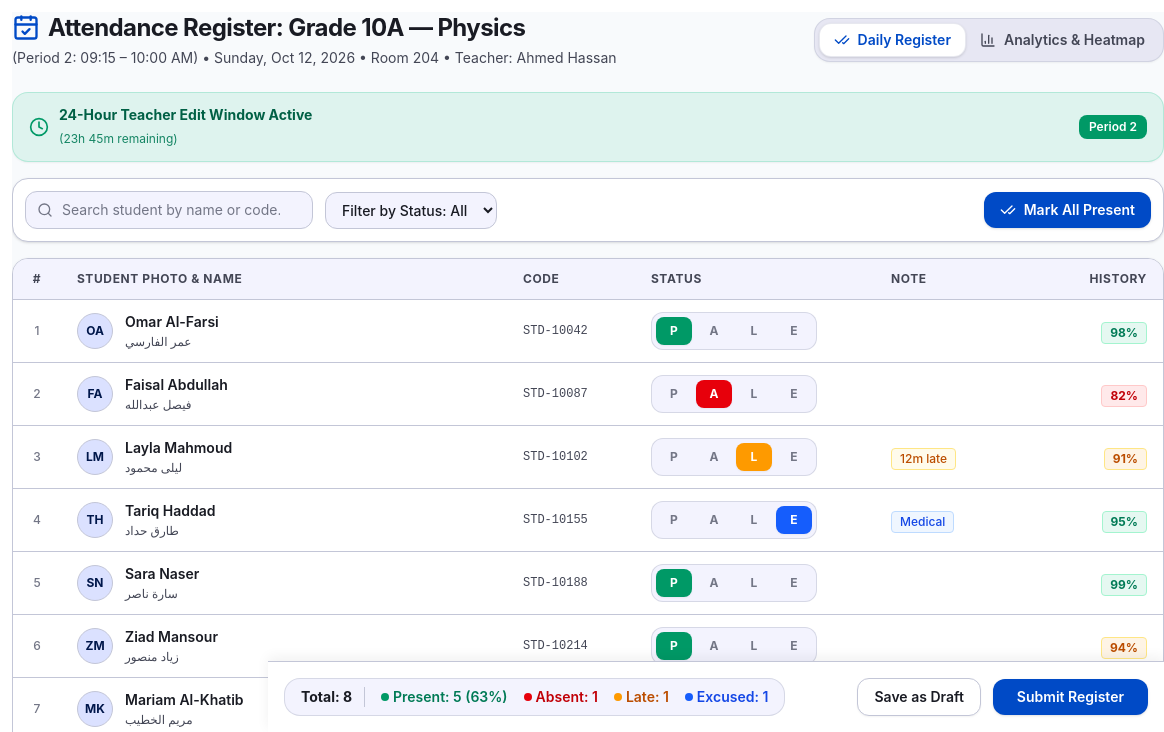
Test case: AttendancePage (Attendance Register & Analytics Heatmap Stitch Clone) › marks all students present when Mark All Present is clicked
The width and height of the screenshot is (1164, 732).
What coordinates should you click on to do the following:
click the button "Mark All Present"
I would click on:
 (1067, 210)
Its box is [984,192,1151,228].
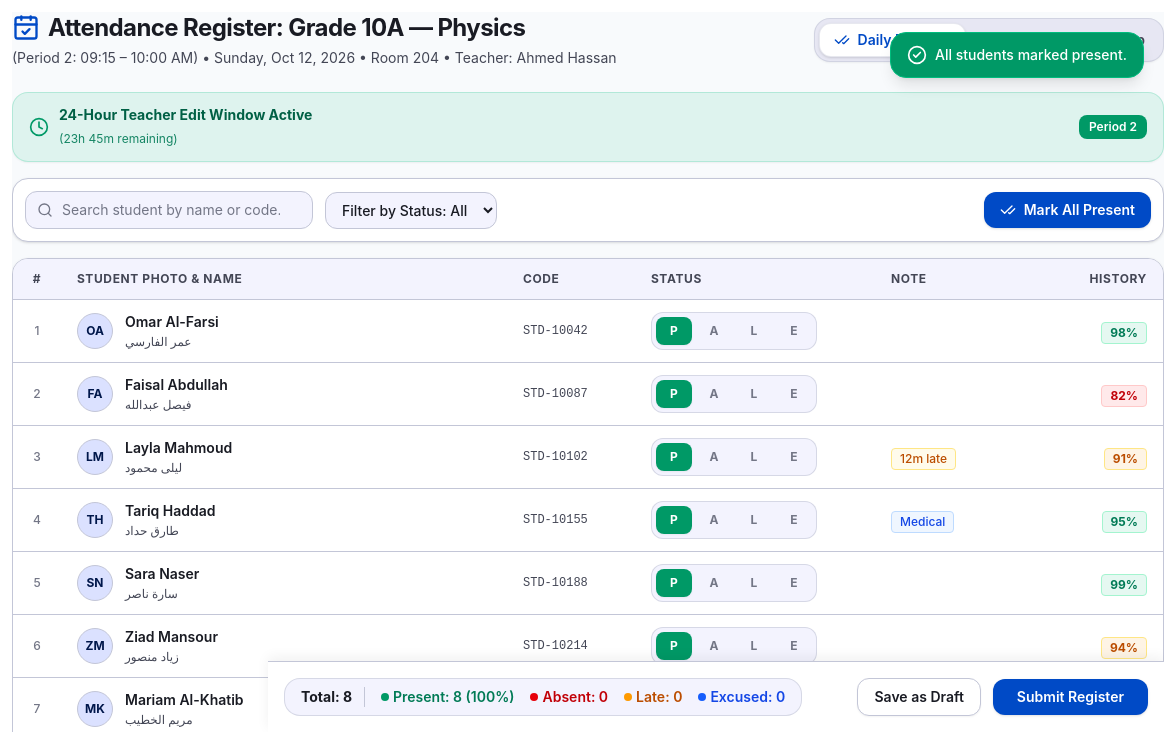
Check: the text "Present: 8 (100%)" is shown, box [381,687,514,707]
Check: the text "Absent: 0" is shown, box [530,687,608,707]
